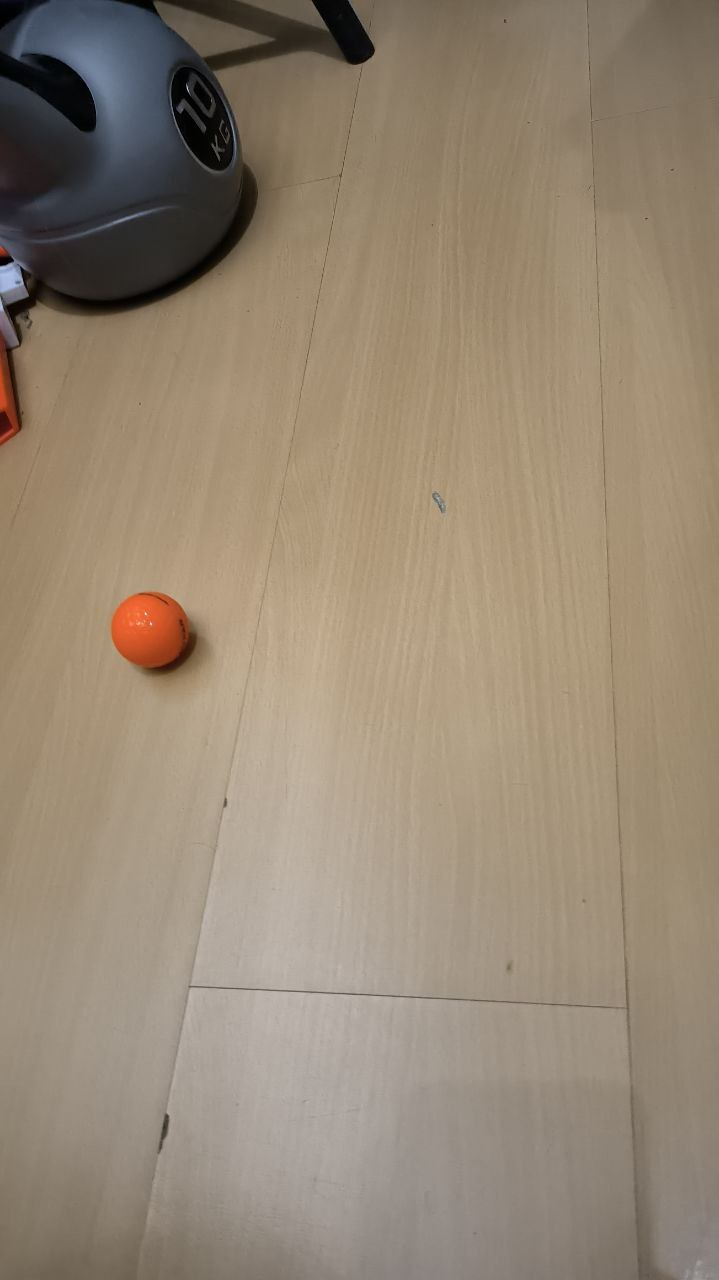orange_ball: (111, 591, 189, 668)
